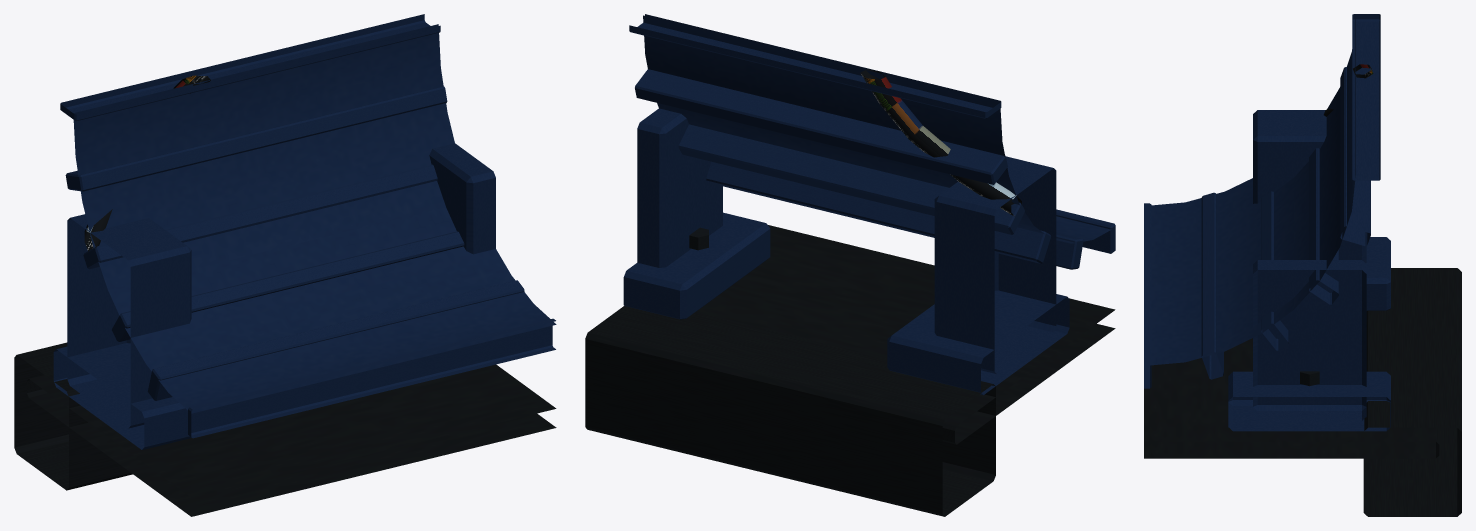
The model's file is cell_4.obj.
3 renders of one model, left to right at view 1: azimuth 30°, elevation 25°; view 2: azimuth 150°, elevation 25°; view 3: azimuth 270°, elevation 25°, orthographic. The views are drawn at different scales.
Parts seen in each view (by area): view 1: cell_4; view 2: cell_4; view 3: cell_4.
Boxes of the visible parts, left/top/right/bottom form: cell_4: left=14, top=14, right=556, bottom=516; cell_4: left=585, top=14, right=1115, bottom=516; cell_4: left=1144, top=14, right=1461, bottom=516.
Bounding box in the file's own units: 1 × 1 × 0.84.
